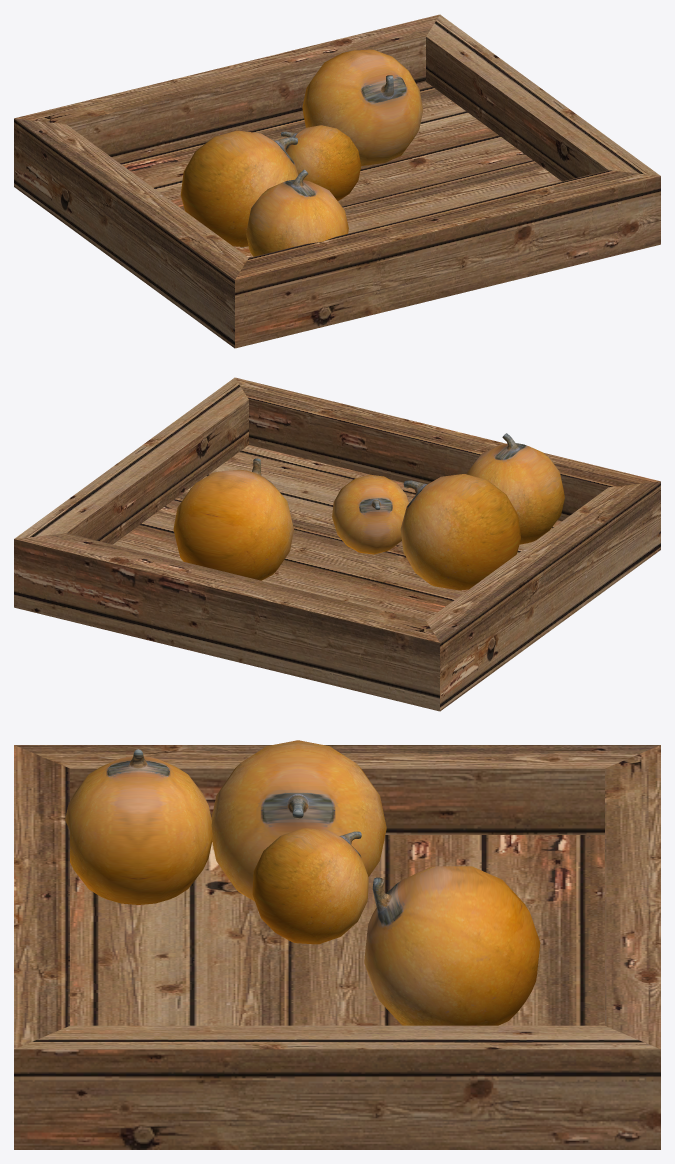
The model's file is fruit_veg4.dae.
3 views of the same model, one above another, from view 1: azimuth 30°, elevation 25°; view 2: azimuth 150°, elevation 25°; view 3: azimuth 270°, elevation 25° (orthographic). The views are drawn at different scales.
Visible parts, largest first — view 1: meshU3D; view 2: meshU3D; view 3: meshU3D.
Boxes of the visible parts, x1=… form: meshU3D: x1=14, y1=14, x2=660, y2=348; meshU3D: x1=14, y1=377, x2=660, y2=711; meshU3D: x1=14, y1=740, x2=660, y2=1149.
Bounding box in the file's own units: 32.37 × 8.73 × 29.06.
